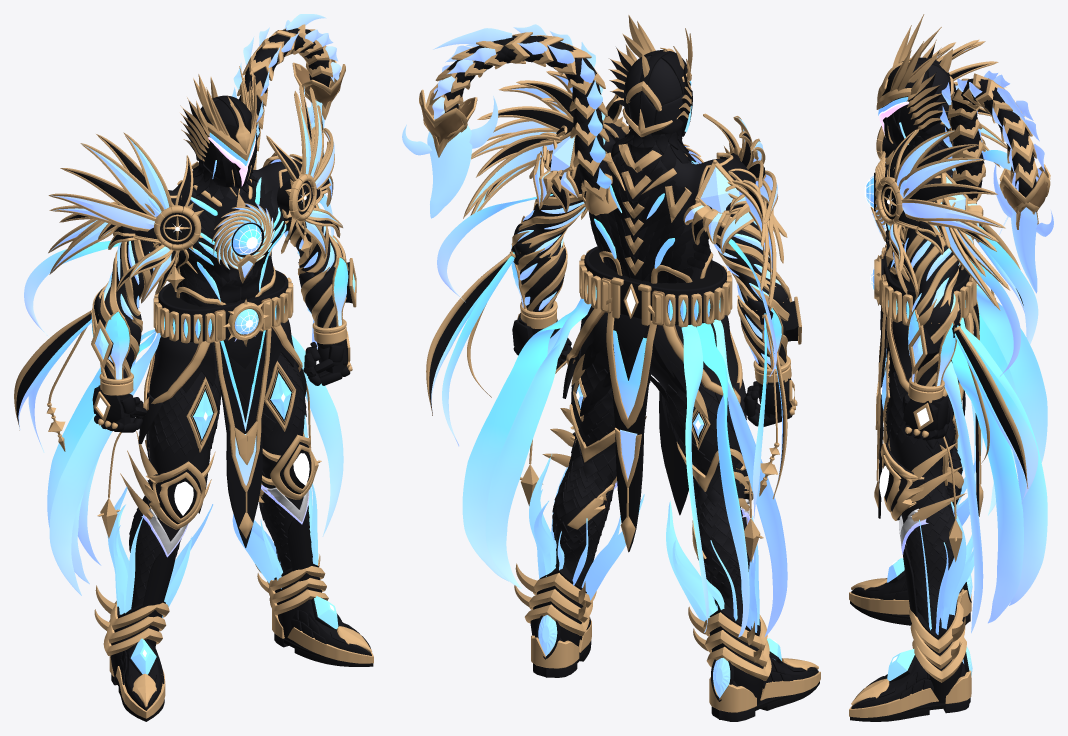
The model's file is rexonance.glb.
3 views of the same model, side by side, from view 1: azimuth 30°, elevation 25°; view 2: azimuth 150°, elevation 25°; view 3: azimuth 270°, elevation 25° (orthographic). The views are drawn at different scales.
Parts seen in each view (by area): view 1: RX_Legs_Gold, RX_Shoulders_Gold, RX_Waist_Gold, RX_Waist_Black, RX_Arms_Gold, RX_Legs_Black, RX_Legs_Crystal, RX_Body_Suit, RX_Legs_Suit, RX_Torso_Black, RX_Shoulders_Crystal, RX_Ribbon_1_R (+23 smaller); view 2: RX_Legs_Gold, RX_Shoulders_Gold, RX_Legs_Suit, RX_Waist_Gold, RX_Arms_Gold, RX_Waist_Black, RX_Legs_Crystal, RX_Body_Suit, RX_Torso_Black, RX_Ribbon_2_L, RX_Ribbon_3_L, RX_Shoulders_Crystal (+25 smaller); view 3: RX_Legs_Gold, RX_Shoulders_Gold, RX_Ribbon_2_L, RX_Arms_Gold, RX_Legs_Suit, RX_Legs_Black, RX_Waist_Gold, RX_Legs_Crystal, RX_Ribbon_3_L, RX_Ribbon_3_R, RX_Helmet_Gold, RX_Shoulders_Crystal (+27 smaller).
Part boxes in pixels (x1,y1,x2,y2): RX_Legs_Gold: (94,361,373,718); RX_Shoulders_Gold: (48,84,342,303); RX_Waist_Gold: (97,273,321,538); RX_Waist_Black: (158,270,294,547); RX_Arms_Gold: (14,204,356,451); RX_Legs_Black: (110,434,371,710); RX_Legs_Crystal: (107,372,338,674); RX_Body_Suit: (116,161,342,608); RX_Legs_Suit: (129,352,312,599); RX_Torso_Black: (171,177,285,306); RX_Shoulders_Crystal: (50,100,342,301); RX_Ribbon_1_R: (49,333,160,595); RX_Legs_Gold: (514,377,820,712); RX_Shoulders_Gold: (463,70,787,307); RX_Legs_Suit: (552,348,749,609); RX_Waist_Gold: (520,249,763,562); RX_Arms_Gold: (426,194,801,499); RX_Waist_Black: (580,246,726,552); RX_Legs_Crystal: (529,384,781,698); RX_Body_Suit: (524,132,783,616); RX_Torso_Black: (588,140,712,283); RX_Ribbon_2_L: (462,298,583,581); RX_Ribbon_3_L: (485,301,591,588); RX_Shoulders_Crystal: (467,75,777,274); RX_Legs_Gold: (849,334,971,717); RX_Shoulders_Gold: (876,39,1010,310); RX_Ribbon_2_L: (951,341,1023,623); RX_Arms_Gold: (903,223,1028,488); RX_Legs_Suit: (886,370,962,610); RX_Legs_Black: (851,437,971,713); RX_Waist_Gold: (874,244,983,561); RX_Legs_Crystal: (881,349,975,680); RX_Ribbon_3_L: (960,317,1047,605); RX_Ribbon_3_R: (976,286,1047,482); RX_Helmet_Gold: (876,14,953,143); RX_Shoulders_Crystal: (890,48,1003,296).
Bounding box in the file's own units: 1.16 × 1.99 × 0.5835.
